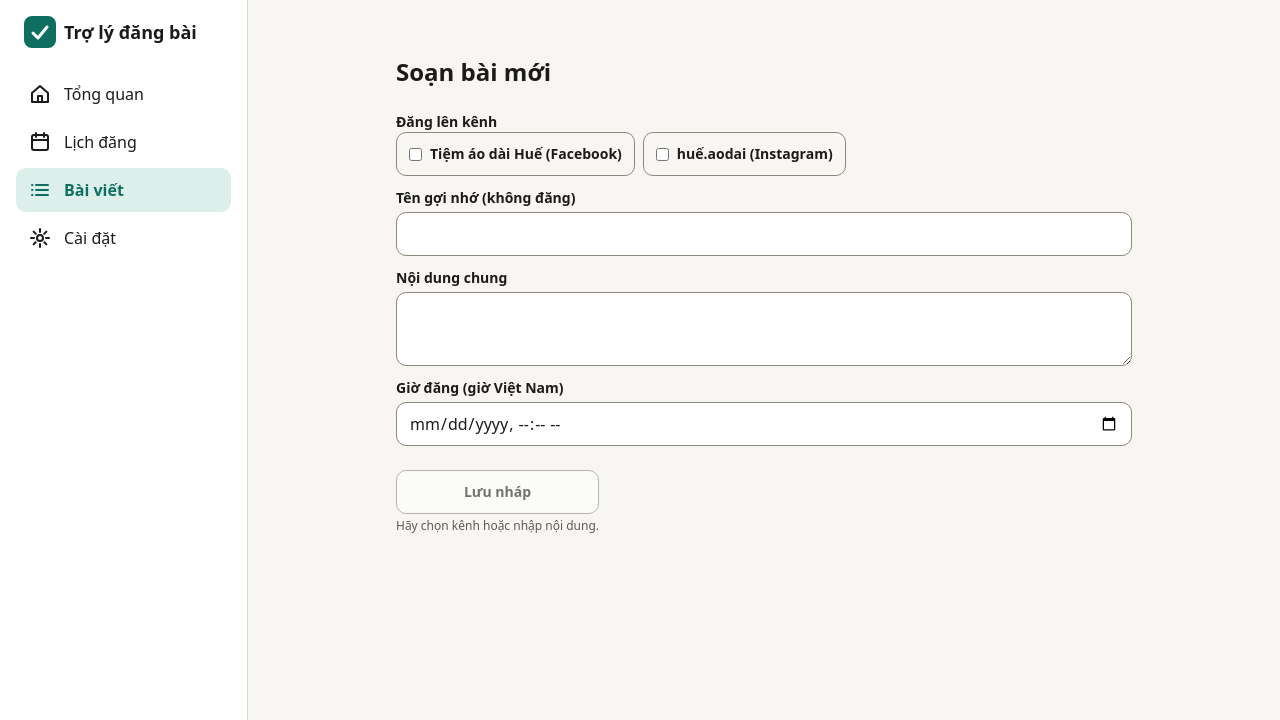
Test case: ComposePage – soạn bài mới › chọn kênh → hiện tab theo kênh; đếm ký tự và cảnh báo bằng chữ khi vượt giới hạn Instagram
Click the checkbox labelled "huế.aodai (Instagram)".
click(662, 154)  # box [656,148,669,160]
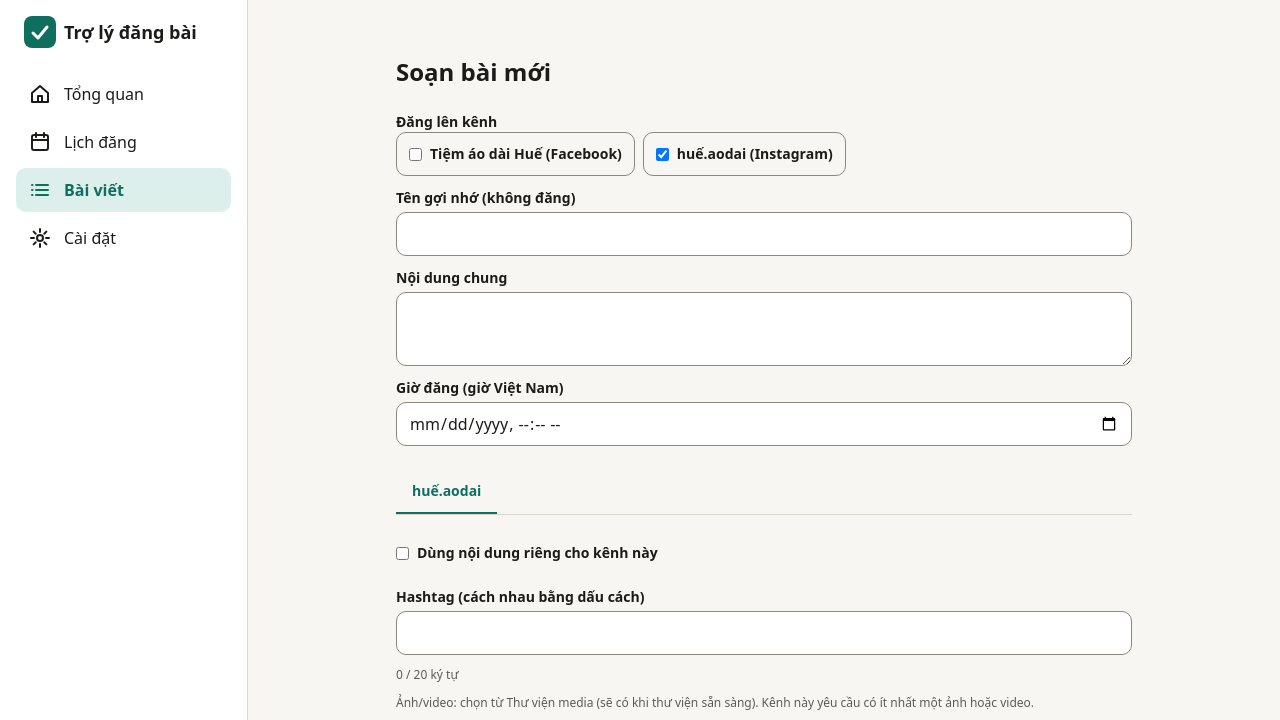
Type "Nội dung dài hơn hai mươi ký tự chắc chắn" into the text box labelled "Nội dung chung".
click(764, 329); type("Nội dung dài hơn hai mươi ký tự chắc chắn")  # box [396,292,1132,366]
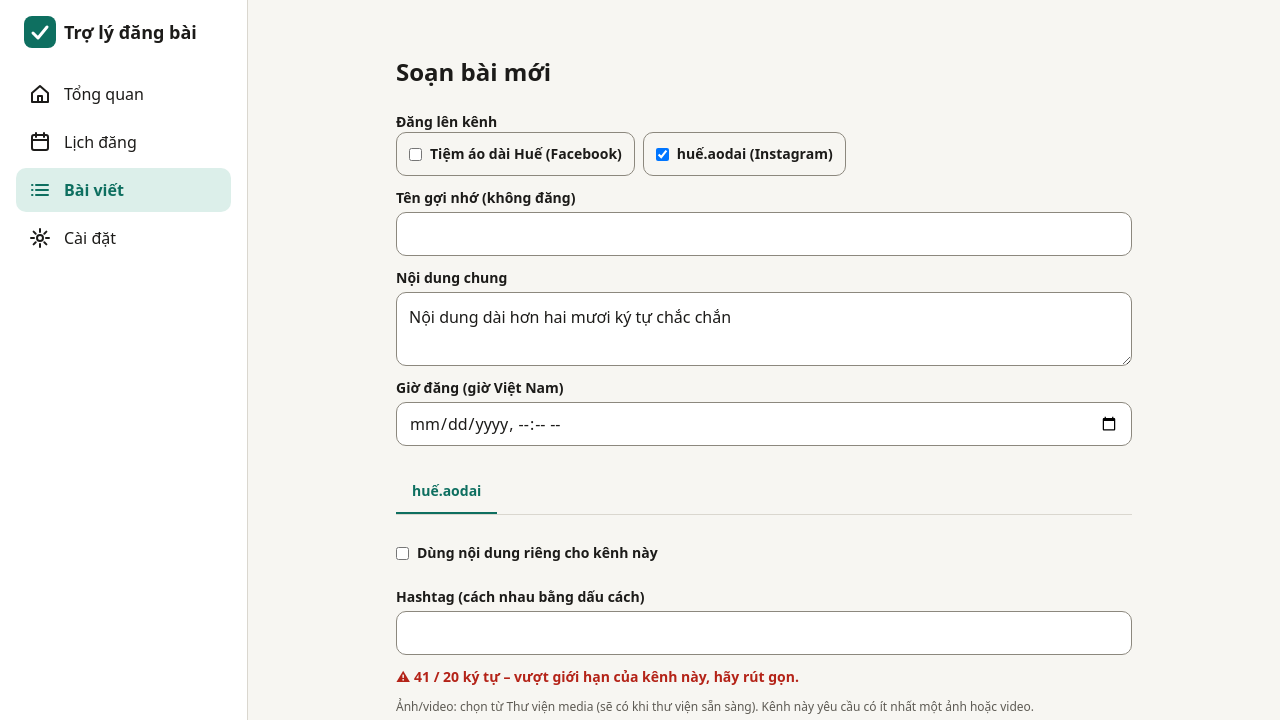
Check: the text "Kênh này yêu cầu có ít nhất một ảnh hoặc video" is shown, box [758,698,1034,715]
Check: the text "⚠ 41 / 20 ký tự – vượt giới hạn của kênh này, hãy rút gọn." is shown, box [396,667,799,686]
